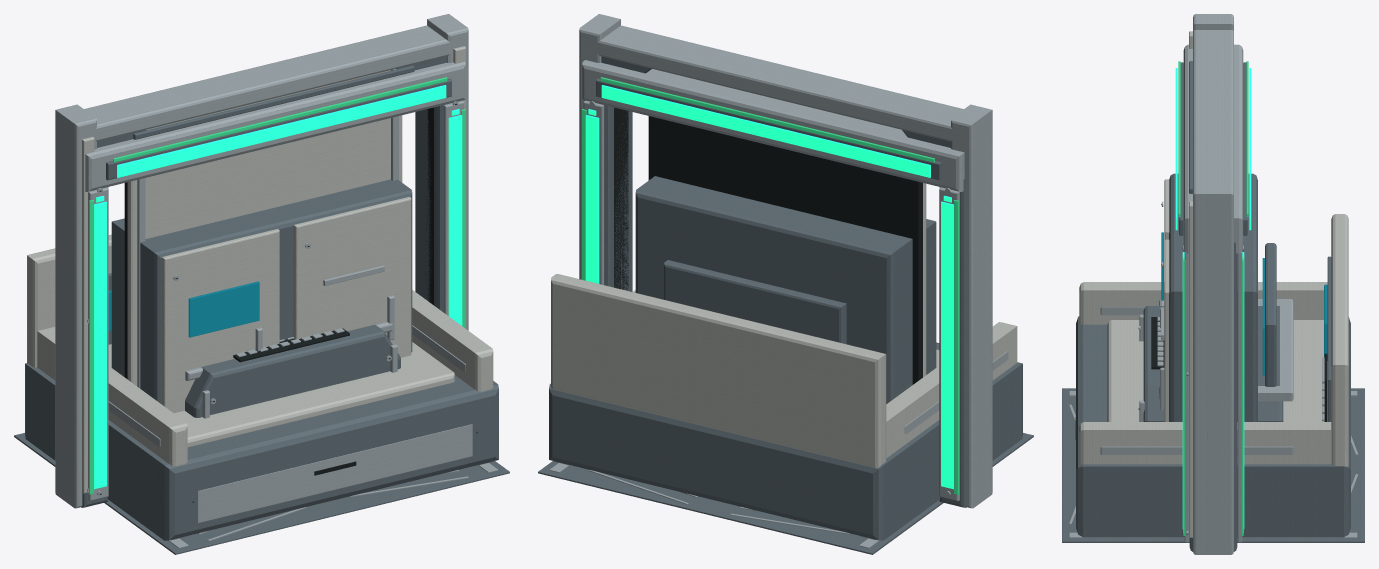
File: genesis-cinematic-kit.glb
The picture shows the model from 3 angles, left to right: view 1: azimuth 30°, elevation 25°; view 2: azimuth 150°, elevation 25°; view 3: azimuth 270°, elevation 25°; orthographic projection. The views are drawn at different scales.
Visible parts, largest first — view 1: sleep-berth__graphite, life-support__composite, pressure-rib__titanium, sleep-berth__composite, wall-cassette__composite, life-support__graphite, green-airlock__titanium, green-airlock__green, sleep-berth__titanium, operator-console__graphite, green-airlock__graphite, floor-cassette__graphite (+11 smaller); view 2: sleep-berth__composite, sleep-berth__graphite, life-support__graphite, pressure-rib__titanium, wall-cassette__rubber, green-airlock__titanium, green-airlock__green, operator-console__graphite, green-airlock__graphite, floor-cassette__graphite, green-airlock__reflection, green-airlock__rubber (+3 smaller); view 3: sleep-berth__composite, pressure-rib__titanium, sleep-berth__graphite, life-support__graphite, green-airlock__titanium, floor-cassette__graphite, operator-console__graphite, green-airlock__graphite, green-airlock__reflection, operator-console__titanium, green-airlock__green, sleep-berth__titanium (+6 smaller).
Part boxes in pixels (<box>): sleep-berth__graphite: <box>25,273,498,540</box>; life-support__composite: <box>162,196,411,413</box>; pressure-rib__titanium: <box>55,14,468,508</box>; sleep-berth__composite: <box>27,234,493,540</box>; wall-cassette__composite: <box>127,70,402,386</box>; life-support__graphite: <box>111,179,412,404</box>; green-airlock__titanium: <box>85,61,465,500</box>; green-airlock__green: <box>94,85,462,489</box>; sleep-berth__titanium: <box>108,325,472,523</box>; operator-console__graphite: <box>185,324,400,417</box>; green-airlock__graphite: <box>81,78,451,507</box>; floor-cassette__graphite: <box>14,433,509,554</box>; sleep-berth__composite: <box>551,274,1017,540</box>; sleep-berth__graphite: <box>549,342,1022,540</box>; life-support__graphite: <box>635,176,936,403</box>; pressure-rib__titanium: <box>579,14,992,508</box>; wall-cassette__rubber: <box>648,116,922,384</box>; green-airlock__titanium: <box>582,60,964,500</box>; green-airlock__green: <box>585,85,953,489</box>; operator-console__graphite: <box>664,260,846,344</box>; green-airlock__graphite: <box>584,78,966,507</box>; floor-cassette__graphite: <box>538,433,1033,554</box>; green-airlock__reflection: <box>582,77,958,494</box>; green-airlock__rubber: <box>614,107,628,289</box>; sleep-berth__composite: <box>1079,214,1348,466</box>; pressure-rib__titanium: <box>1186,14,1233,554</box>; sleep-berth__graphite: <box>1076,256,1350,537</box>; life-support__graphite: <box>1169,173,1257,421</box>; green-airlock__titanium: <box>1183,44,1243,542</box>; floor-cassette__graphite: <box>1062,388,1364,542</box>; operator-console__graphite: <box>1143,243,1283,421</box>; green-airlock__graphite: <box>1179,62,1247,551</box>; green-airlock__reflection: <box>1178,61,1248,535</box>; operator-console__titanium: <box>1139,299,1293,421</box>; green-airlock__green: <box>1175,68,1251,529</box>; sleep-berth__titanium: <box>1100,307,1324,454</box>.
Bounding box in the file's own units: 3.94 × 3.85 × 2.8.
Materials: 7 (4 with a texture image).
